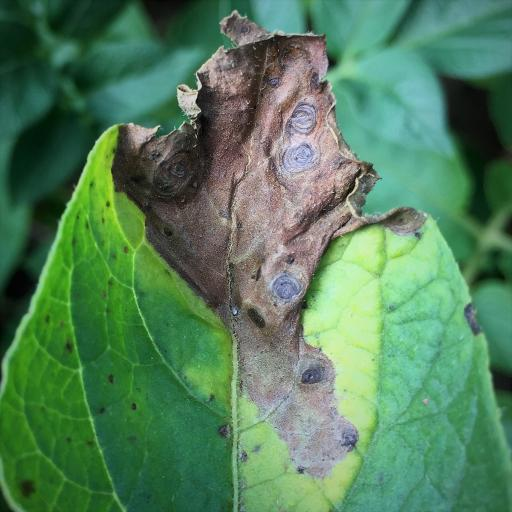disease_tomato: (0, 2, 512, 512)
